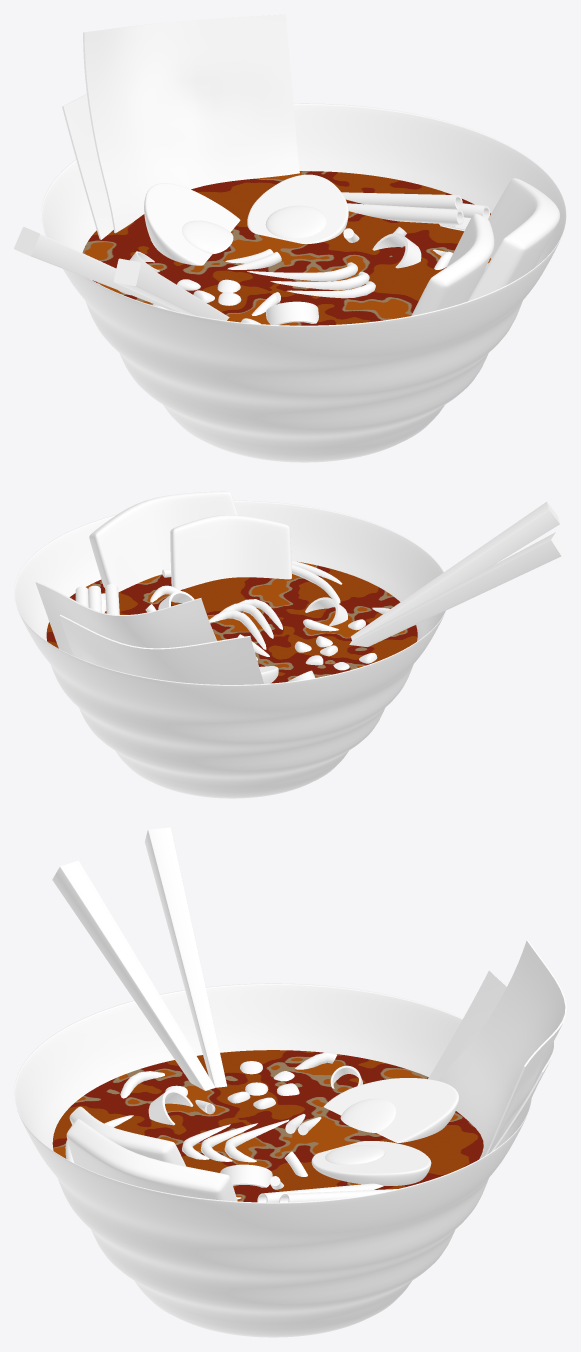
File: web-2.glb
3 views of the same model, one above another, from view 1: azimuth 30°, elevation 25°; view 2: azimuth 150°, elevation 25°; view 3: azimuth 270°, elevation 25° (orthographic). The views are drawn at different scales.
Parts seen in each view (by area): view 1: Plate, Alga.001, Liquid, PorkMeat, Egg.001, Egg, Noodles, PorkMeat.001, CeleryWhite, Alga, Chopsticks.001, Chopsticks (+4 smaller); view 2: Plate, Liquid, PorkMeat.001, PorkMeat, Alga, Alga.001, Chopsticks.001, Chopsticks, Noodles, CeleryWhite, Celery.001; view 3: Plate, Liquid, Alga.001, Chopsticks, Chopsticks.001, PorkMeat, Egg.001, Noodles, Egg, Alga, PorkMeat.001, CeleryWhite (+4 smaller).
Part boxes in pixels (x1,y1,x2,y2): Plate: (41,103,566,462); Alga.001: (83,14,299,233); Liquid: (82,171,490,325); PorkMeat: (467,178,559,301); Egg.001: (144,183,240,265); Egg: (247,174,348,243); Noodles: (118,227,488,315); PorkMeat.001: (411,213,494,315); CeleryWhite: (341,192,489,231); Alga: (62,94,113,239); Chopsticks.001: (14,227,180,312); Chopsticks: (113,258,229,320); Plate: (14,500,445,798); Liquid: (46,561,417,683); PorkMeat.001: (170,515,291,590); PorkMeat: (89,491,237,592); Alga: (59,614,264,684); Alga.001: (35,581,216,655); Chopsticks.001: (349,532,566,646); Chopsticks: (351,501,559,640); Noodles: (145,560,389,660); CeleryWhite: (75,584,119,614); Celery.001: (305,597,347,626); Plate: (14,983,532,1337); Liquid: (52,1050,483,1202); Alga.001: (438,940,566,1159); Chopsticks: (52,860,215,1090); Chopsticks.001: (145,827,226,1087); PorkMeat: (66,1119,237,1201); Egg.001: (323,1078,459,1142); Noodles: (65,1052,337,1199); Egg: (311,1141,431,1185); Alga: (427,970,555,1153); PorkMeat.001: (69,1106,186,1166); CeleryWhite: (257,1183,397,1202).
Bounding box in the file's own units: 3.66 × 1.92 × 3.11.
Materials: 10 (1 with a texture image).
